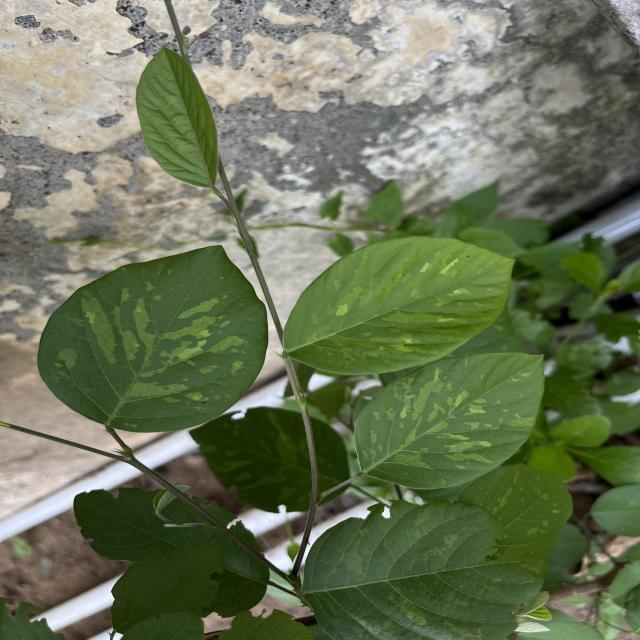Desmodium gangeticum: (34, 240, 270, 436), (350, 350, 548, 492)
